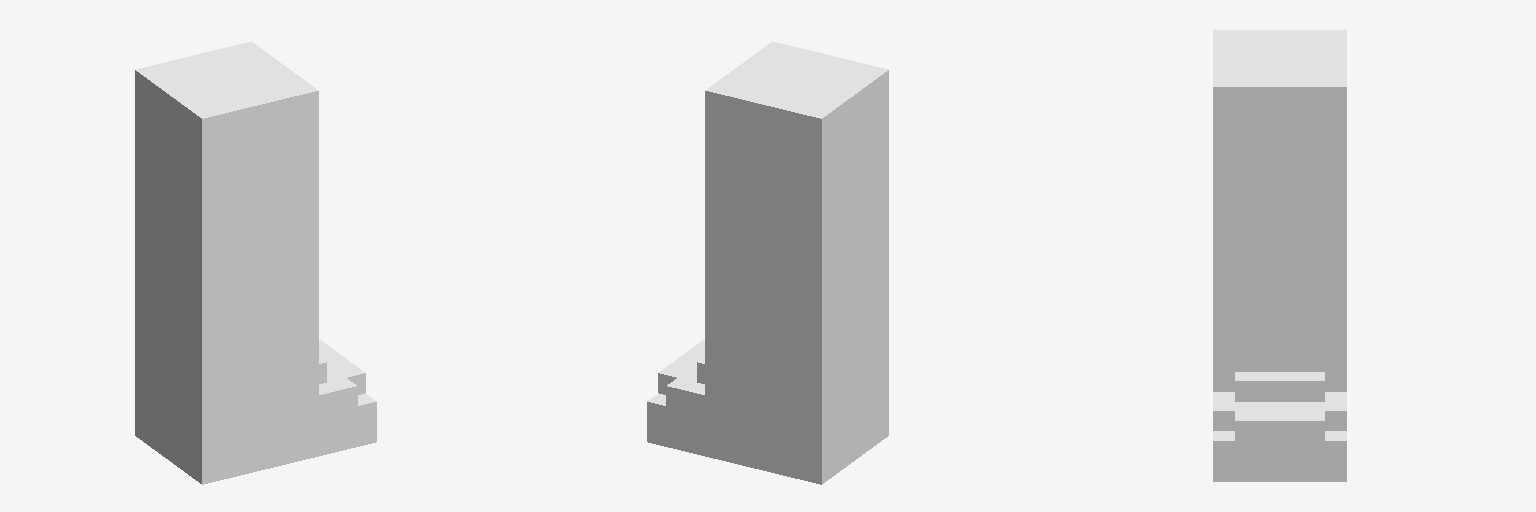
File: maxleg1.obj
The picture shows the model from 3 angles: view 1: azimuth 30°, elevation 25°; view 2: azimuth 150°, elevation 25°; view 3: azimuth 270°, elevation 25°; orthographic projection.
Visible parts, largest first — view 1: object 1; view 2: object 1; view 3: object 1.
Boxes of the visible parts, <box> form: object 1: <box>135,41,376,484</box>; object 1: <box>647,41,888,484</box>; object 1: <box>1213,30,1346,481</box>.
Bounding box in the file's own units: 0.9 × 1.8 × 0.6.